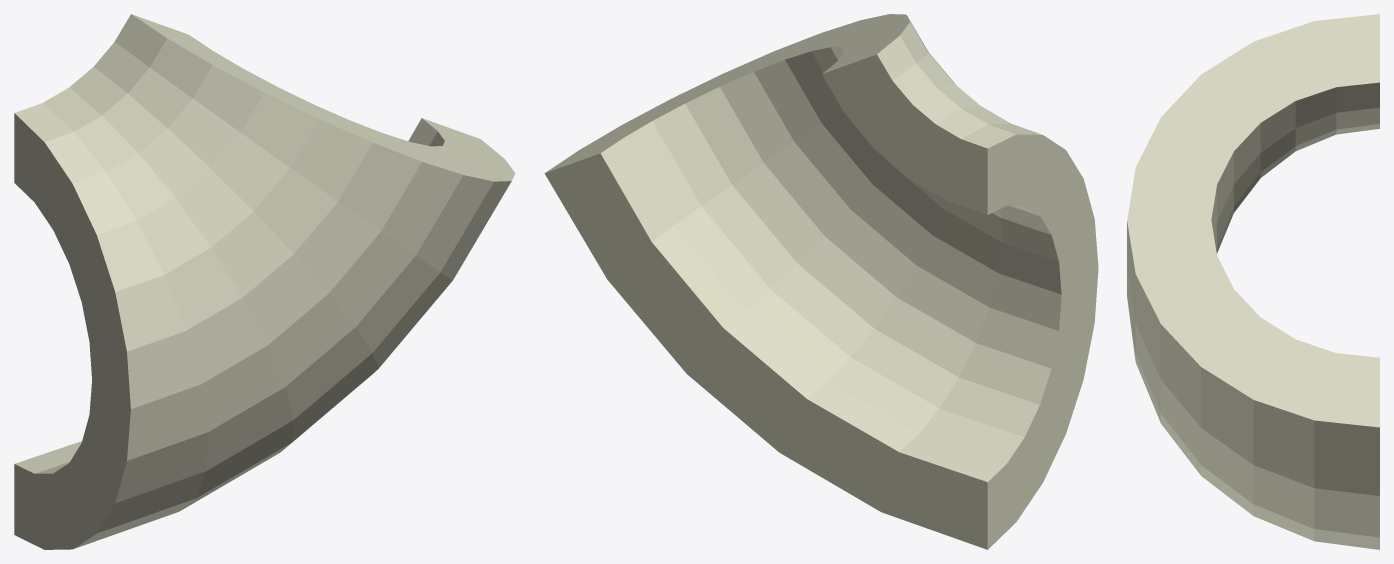
File: section_012.obj
3 renders of one model, left to right at view 1: azimuth 30°, elevation 25°; view 2: azimuth 150°, elevation 25°; view 3: azimuth 270°, elevation 25°, orthographic. The views are drawn at different scales.
Size of the model in its own units: 6.94 by 7 by 3.
